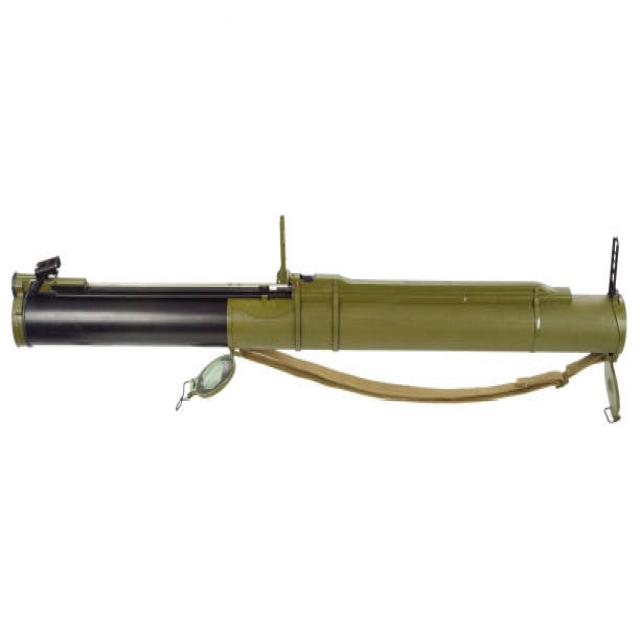bazooka: (2, 209, 632, 430)
